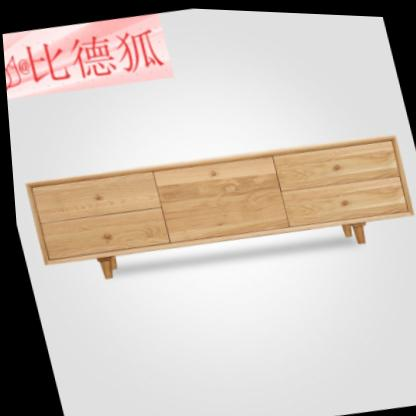TV stand: (16, 114, 416, 299)
